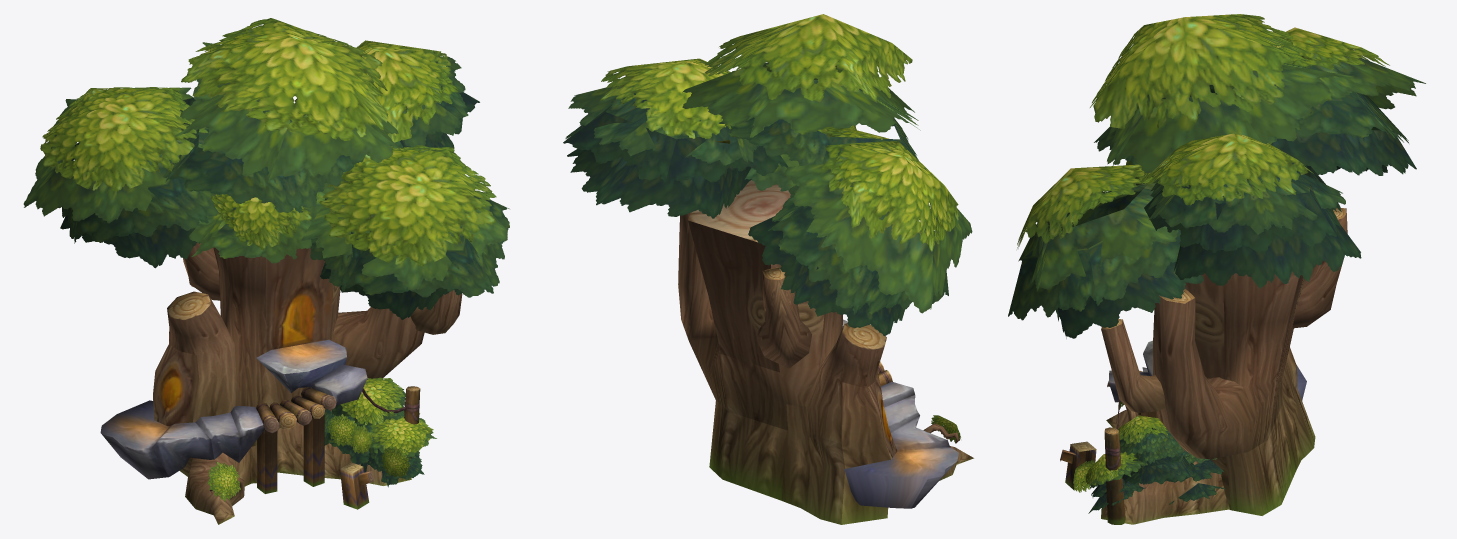
File: Yegesl_tree05.FBX
3 views of the same model, side by side, from view 1: azimuth 30°, elevation 25°; view 2: azimuth 150°, elevation 25°; view 3: azimuth 270°, elevation 25° (orthographic). The views are drawn at different scales.
Parts seen in each view (by area): view 1: Yegesl_treeye05, Yegesl_tree05; view 2: Yegesl_treeye05, Yegesl_tree05; view 3: Yegesl_treeye05, Yegesl_tree05.
Boxes of the visible parts, box(x1,y1,x2,y2) form: Yegesl_treeye05: box(23, 18, 509, 501); Yegesl_tree05: box(100, 242, 462, 524); Yegesl_treeye05: box(563, 14, 972, 442); Yegesl_tree05: box(678, 180, 973, 524); Yegesl_treeye05: box(1008, 14, 1425, 513); Yegesl_tree05: box(1060, 208, 1347, 524).
Size of the model in its own units: 135 by 116 by 136.
